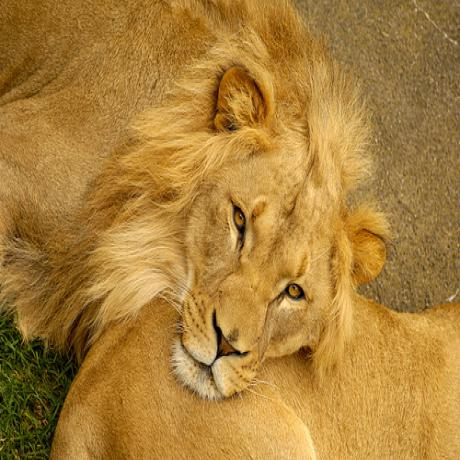Lion: (0, 0, 385, 398), (46, 294, 460, 460)
